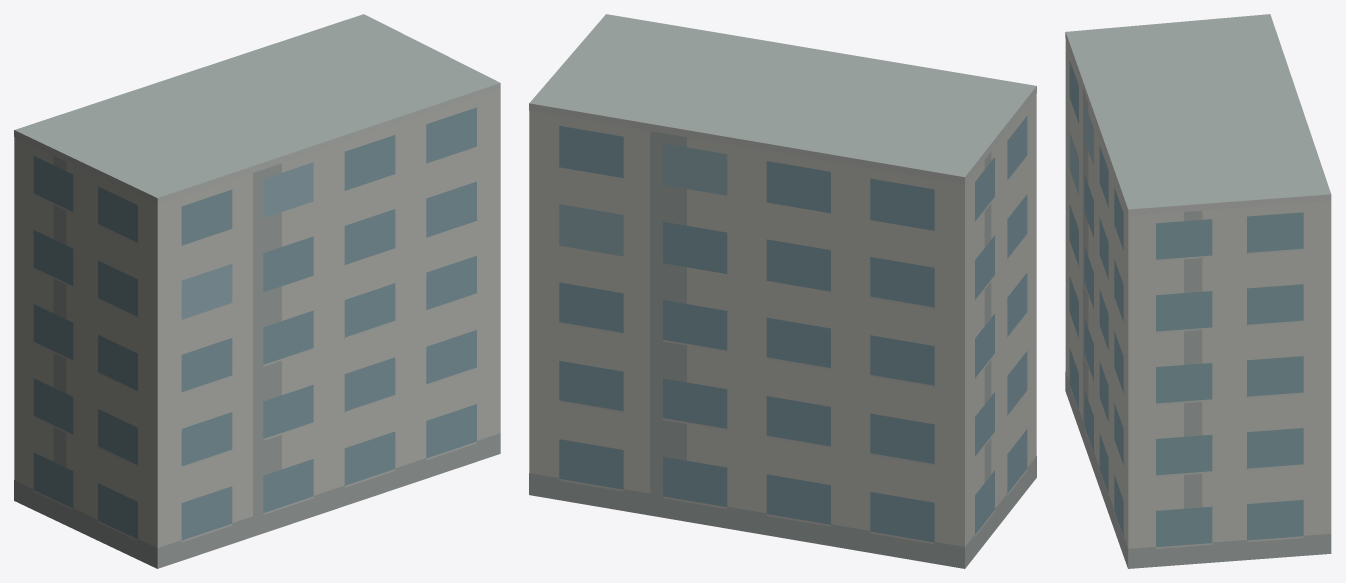
File: survey-upis-32894585.glb
The picture shows the model from 3 angles, left to right: view 1: azimuth 30°, elevation 25°; view 2: azimuth 150°, elevation 25°; view 3: azimuth 270°, elevation 25°; orthographic projection. The views are drawn at different scales.
Visible parts, largest first — view 1: survey-upis-32894585.tmp; view 2: survey-upis-32894585.tmp; view 3: survey-upis-32894585.tmp.
Boxes of the visible parts, x1,y1,x2,y2 form: survey-upis-32894585.tmp: (14, 14, 500, 568); survey-upis-32894585.tmp: (529, 14, 1036, 568); survey-upis-32894585.tmp: (1065, 14, 1331, 568).
Size of the model in its own units: 15.4 by 13.2 by 8.86.
